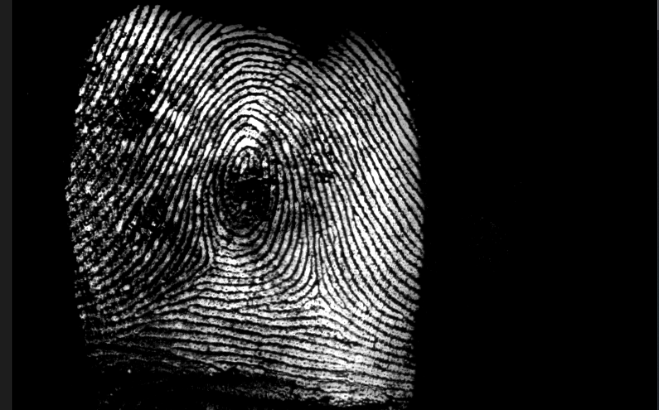deltas: (286, 262, 342, 317)
nucleo: (222, 150, 270, 204)
